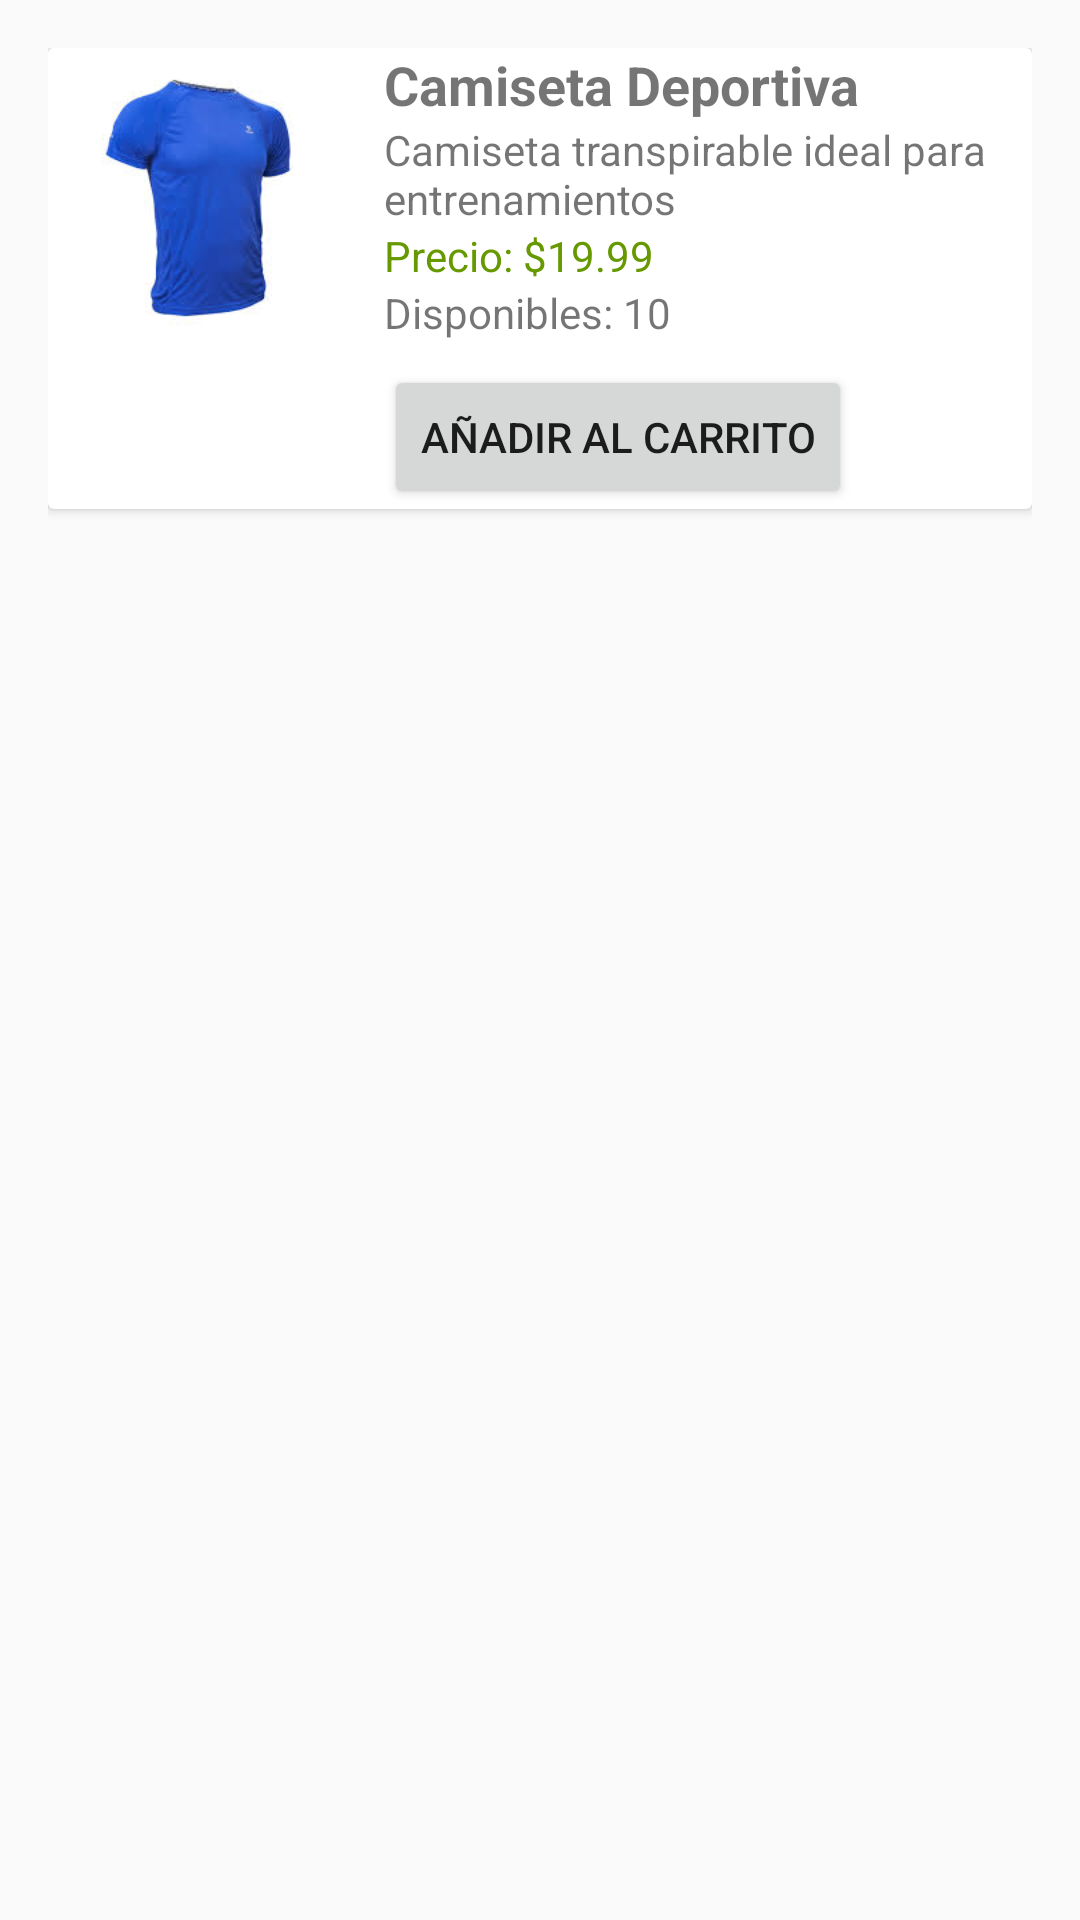

Icons on this 1080px x 1920px Android screen, each with the point to tap as point (x, y):
producto: point (169, 182)
